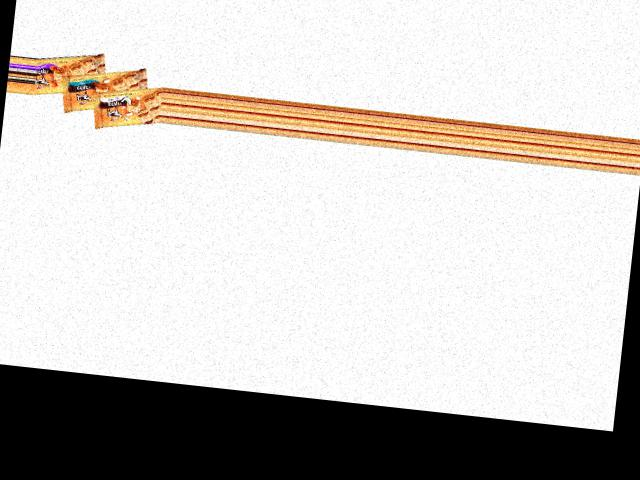chocolate: (32, 50, 113, 104)
